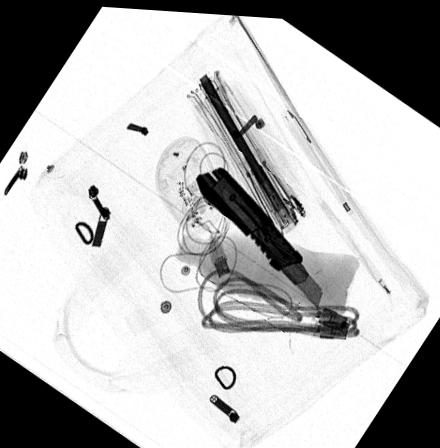Knife: (194, 162, 323, 303)
